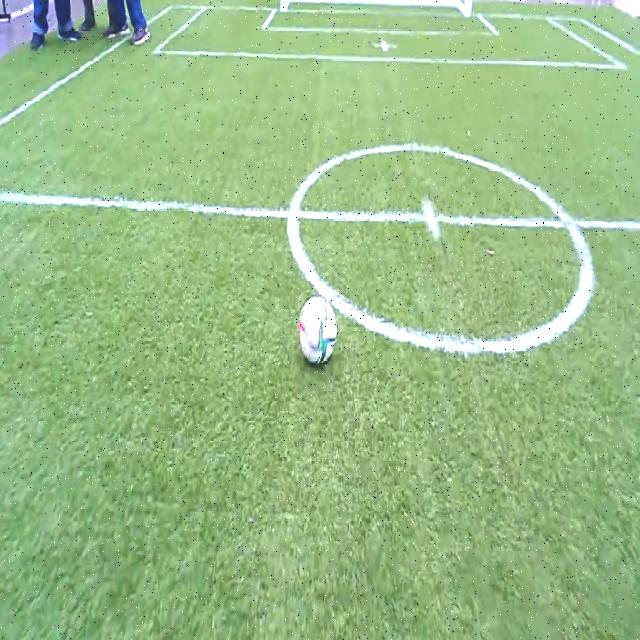ball: (300, 297, 337, 364)
